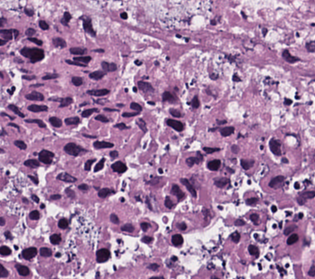nucleus: (20, 47, 44, 62), (180, 178, 196, 197), (64, 143, 85, 155), (297, 190, 314, 204), (282, 49, 298, 63), (186, 152, 202, 166), (171, 184, 184, 200), (166, 119, 183, 131), (269, 175, 284, 188), (39, 150, 53, 163), (96, 248, 109, 262), (269, 139, 280, 155), (111, 161, 126, 172), (57, 173, 75, 182), (162, 91, 176, 102), (26, 91, 43, 100), (26, 119, 45, 127), (101, 61, 116, 71), (138, 81, 153, 91), (214, 177, 229, 187), (87, 89, 108, 96), (98, 188, 114, 197), (207, 159, 220, 170), (93, 141, 113, 148), (28, 104, 47, 111), (136, 118, 146, 131), (220, 126, 233, 136), (94, 158, 104, 171), (240, 159, 253, 169), (82, 108, 98, 116), (287, 233, 298, 244), (53, 37, 65, 47), (70, 47, 85, 55), (66, 60, 86, 66), (89, 71, 104, 79), (172, 234, 182, 246), (28, 37, 42, 45), (74, 56, 90, 63), (84, 159, 94, 170), (230, 231, 240, 242), (60, 97, 72, 106), (49, 117, 61, 126), (95, 114, 108, 122), (50, 234, 60, 244), (248, 245, 258, 255), (71, 76, 82, 85), (130, 102, 141, 111), (164, 197, 173, 208), (40, 247, 51, 256), (65, 117, 79, 124), (191, 96, 199, 108), (169, 109, 181, 117), (203, 147, 219, 153), (147, 177, 160, 184), (305, 41, 314, 51), (29, 210, 39, 219), (249, 214, 258, 224), (58, 218, 67, 228), (246, 197, 257, 205), (284, 226, 295, 234), (43, 73, 57, 79), (121, 224, 133, 231), (65, 188, 74, 197), (110, 214, 119, 223), (122, 111, 138, 116), (115, 123, 128, 129), (28, 175, 37, 183), (146, 197, 152, 209), (140, 222, 149, 230), (142, 236, 152, 243), (148, 263, 158, 270), (308, 265, 314, 276), (78, 184, 88, 190), (234, 219, 244, 225), (110, 151, 118, 158), (178, 223, 186, 230), (50, 194, 60, 199), (233, 74, 240, 81), (284, 98, 291, 105), (231, 145, 238, 152), (31, 195, 38, 202), (202, 208, 208, 216), (83, 134, 95, 137), (294, 182, 299, 188), (271, 205, 276, 211), (210, 74, 217, 78), (151, 276, 163, 278), (104, 108, 115, 110), (218, 120, 225, 123), (31, 84, 41, 86), (282, 158, 287, 162), (298, 213, 302, 218), (148, 101, 154, 104), (94, 49, 102, 51), (172, 256, 176, 260), (133, 87, 136, 91), (117, 104, 123, 106)
